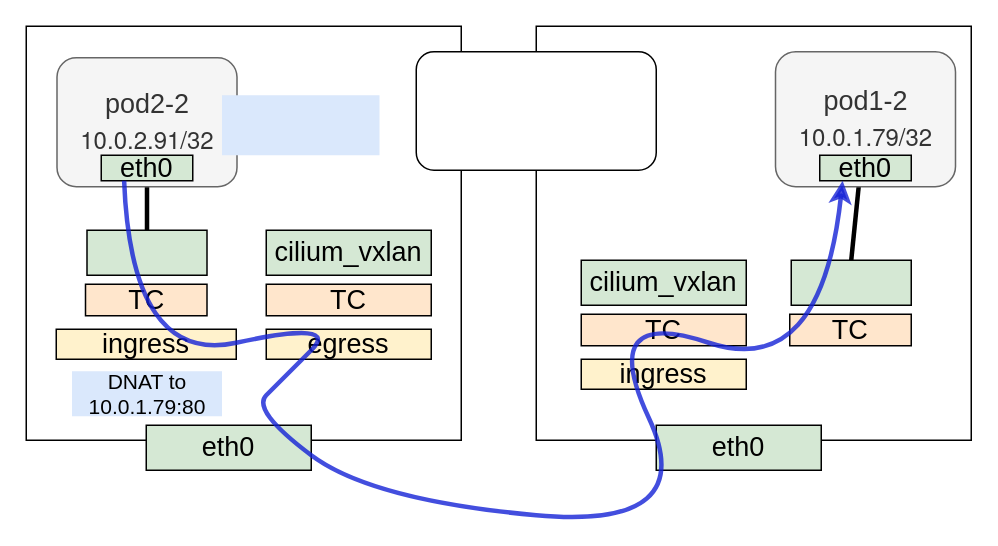
The diagram is 998 pixels wide and 546 high, and some of its shapes have lost their labels. Here are the shapes that lost their labels. From the top down, the centre of each, then its label:
the point at 300,124: curl 10.96.52.248:80
the point at 535,110: Service (for pod1-2) 10.96.52.248:80
the point at 146,252: lxc1
the point at 850,282: lxc2
